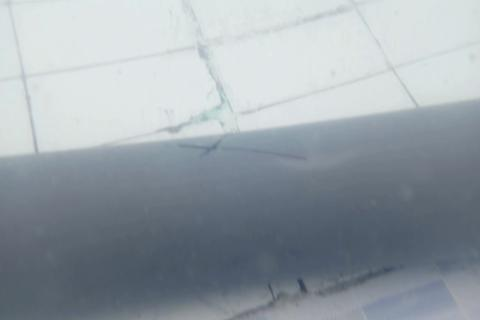keretakan: (175, 135, 311, 165)
